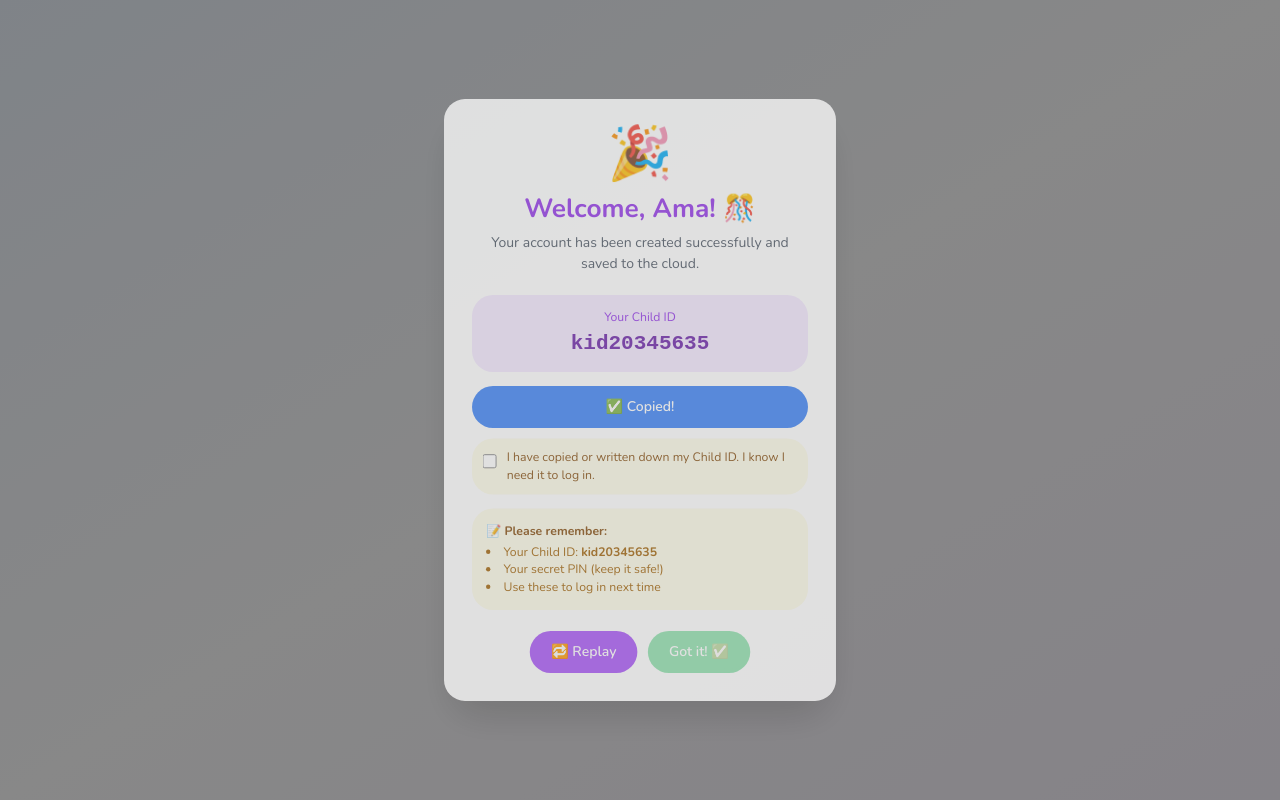
Test case: CelebrationPopup child ID acknowledgement › requires the new child to copy and acknowledge their ID before continuing
This screenshot has width=1280, height=800.
Earlier steps of the test are not shown.
Later steps or results of the test are not shown.
Expected: the button "✅ Copied!" is shown, [472,386,808,428]
Click the checkbox at (489, 461), box [482,452,496,470]
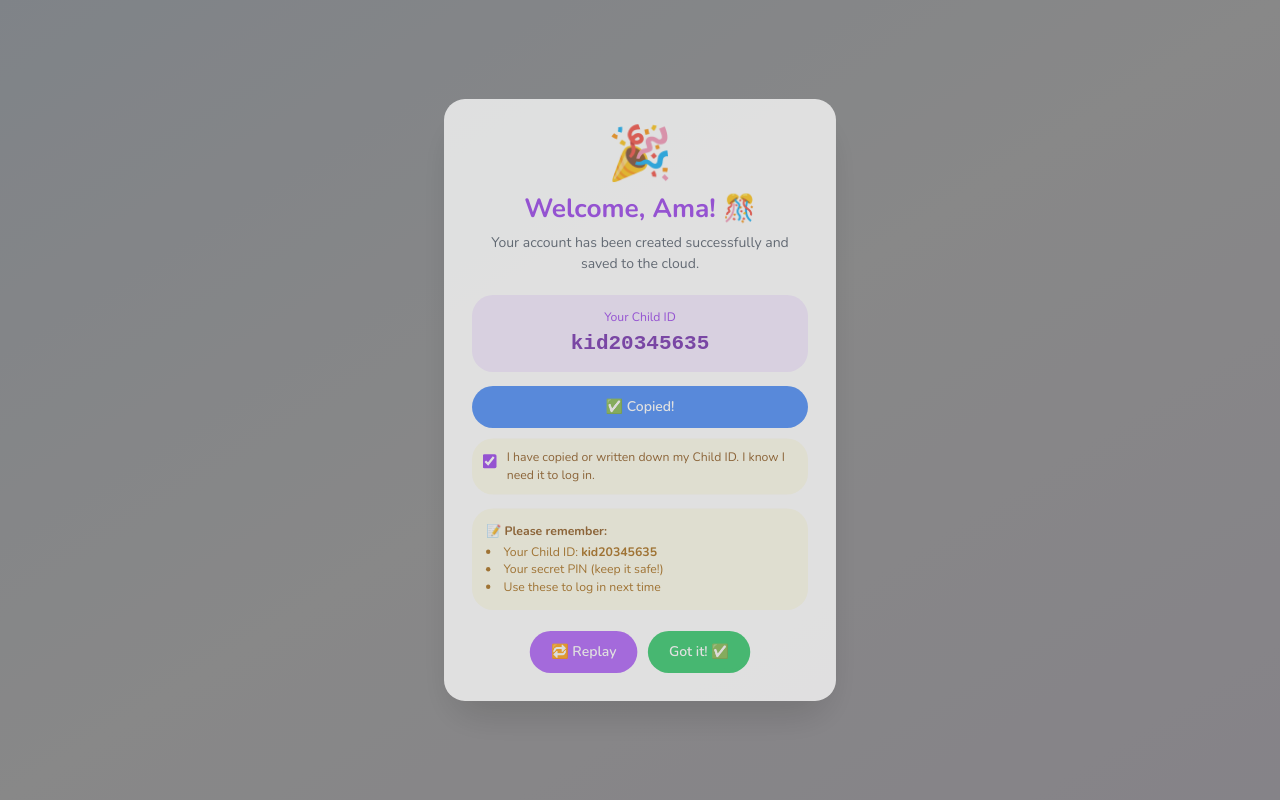
Now the button with aria-label "Got it, continue" is enabled, box [648,631,750,673]
